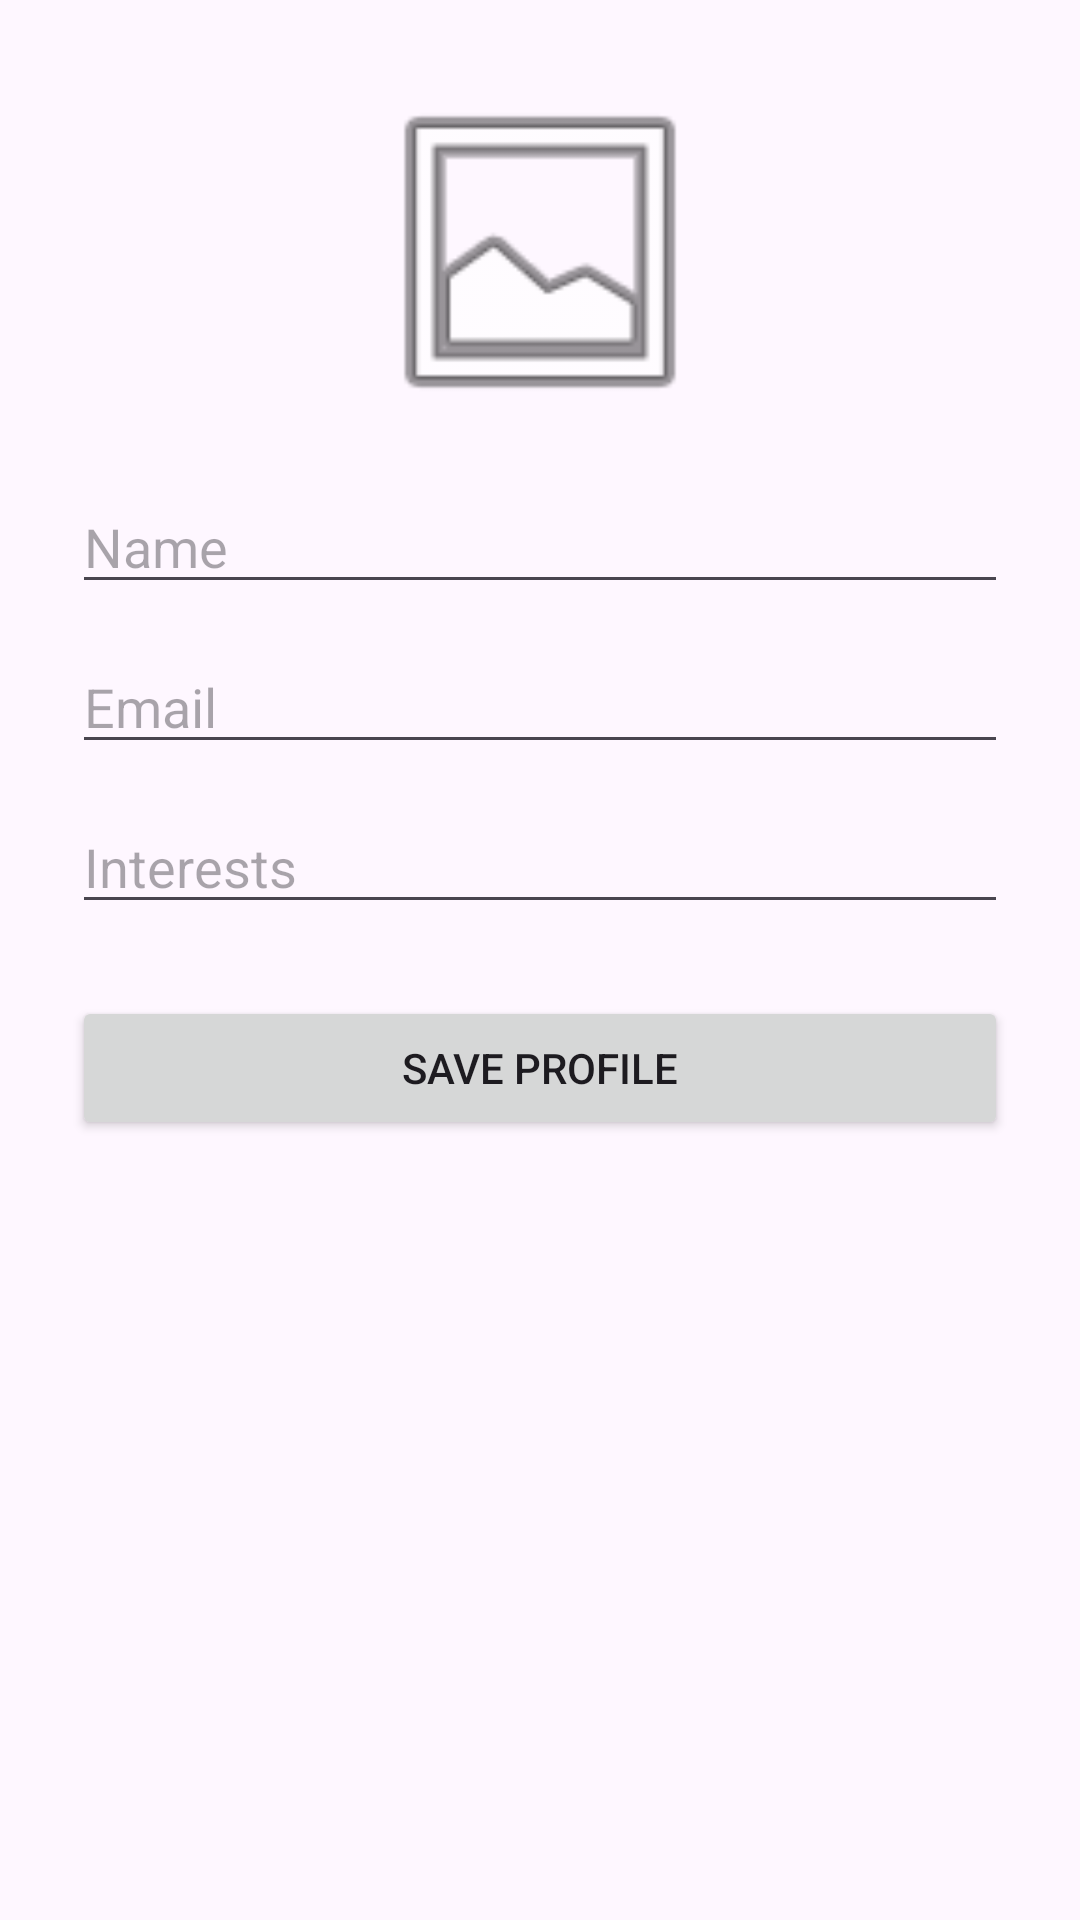

Where icons sit on this 1080×1920 app screen, as (x1, y1, x2, y2):
Profile Photo: (404, 116, 676, 388)
